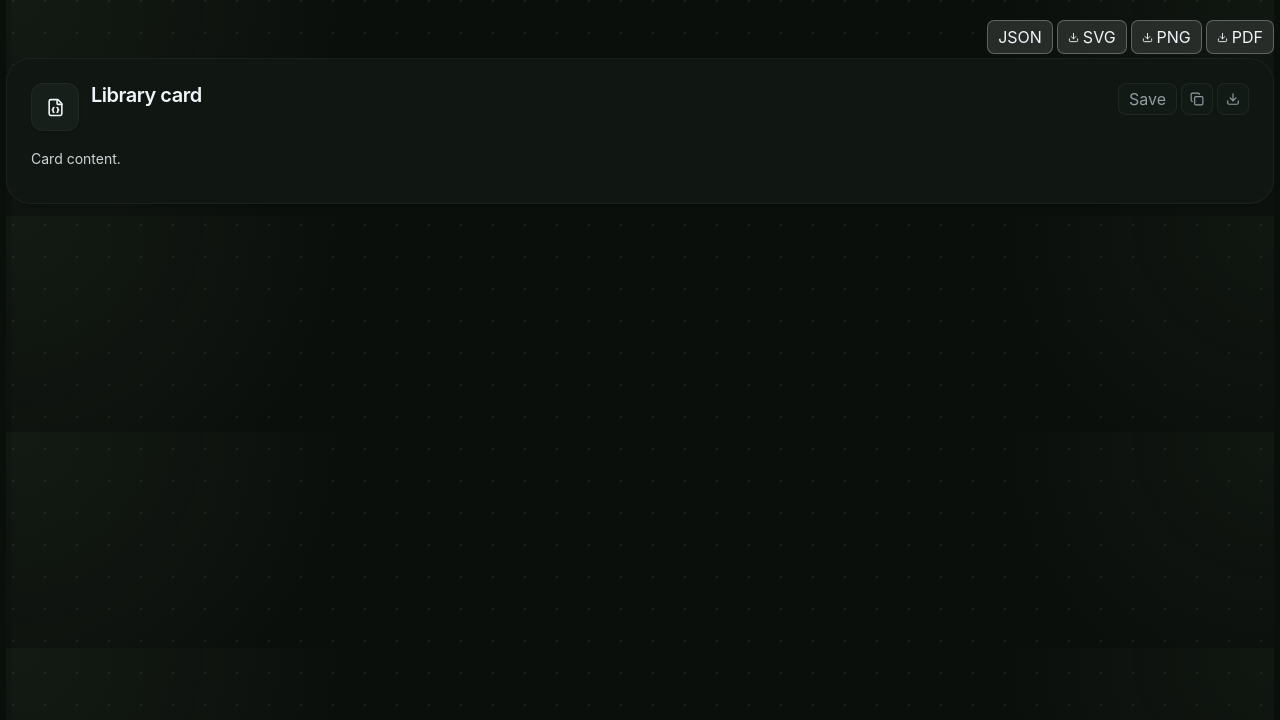
Test case: DeepSpace markdown streaming › shows Library save failures on the card and does not claim success
Click the button with aria-label "Save card to Library": point(1148, 99) [1118,83,1177,115]
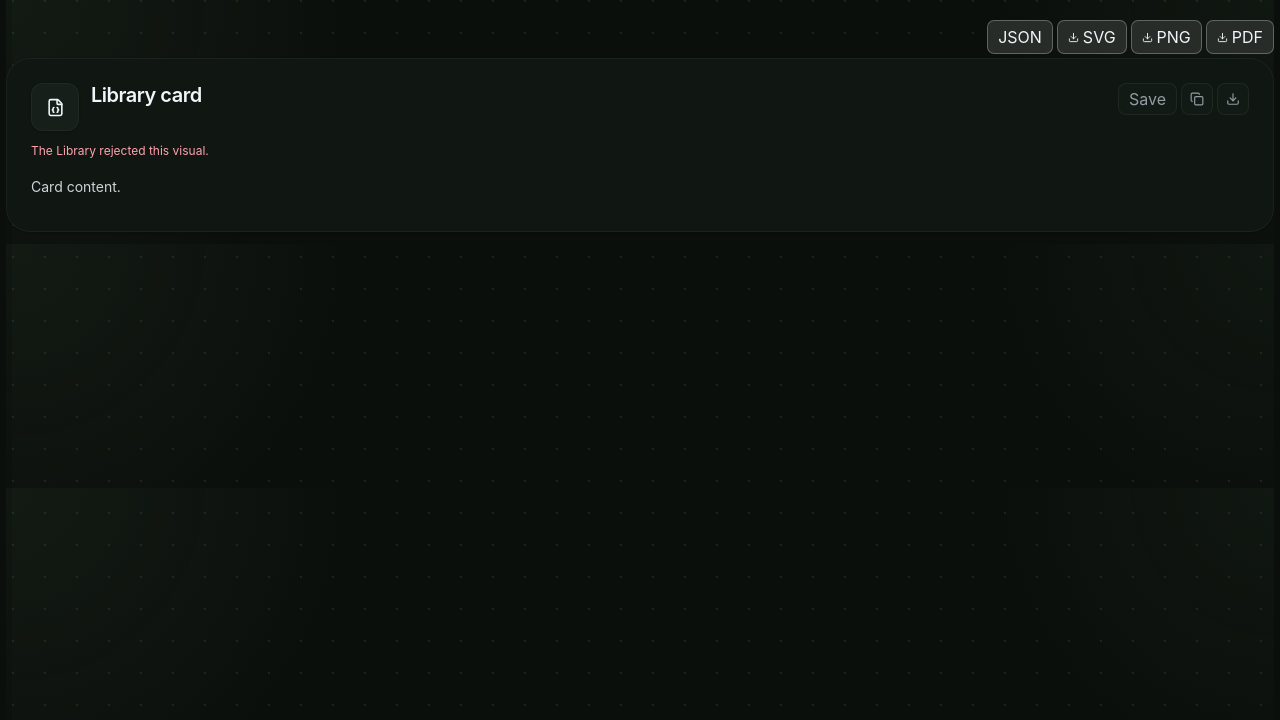
Result: the message reads "The Library rejected this visual." at [31,143,209,158]
